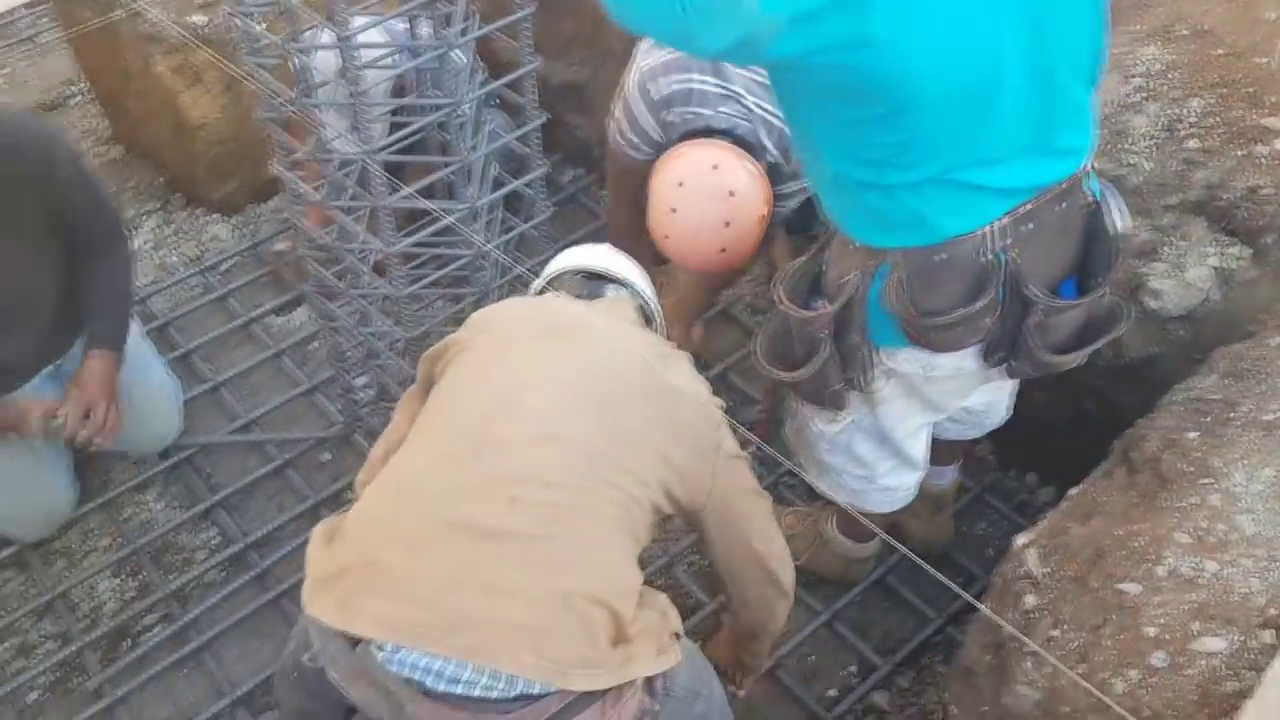helmet: (645, 144, 775, 280), (527, 241, 670, 339)
helmet-off: (298, 16, 402, 159)
helmet-on: (523, 238, 675, 353)
person: (586, 0, 1126, 579), (299, 236, 798, 720), (0, 95, 183, 555), (595, 32, 808, 354), (271, 0, 512, 243)
